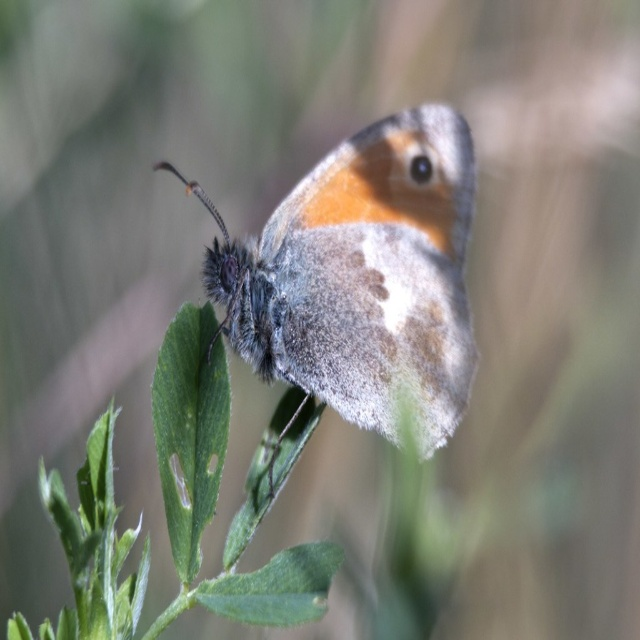Butterfly: (152, 102, 481, 463)
